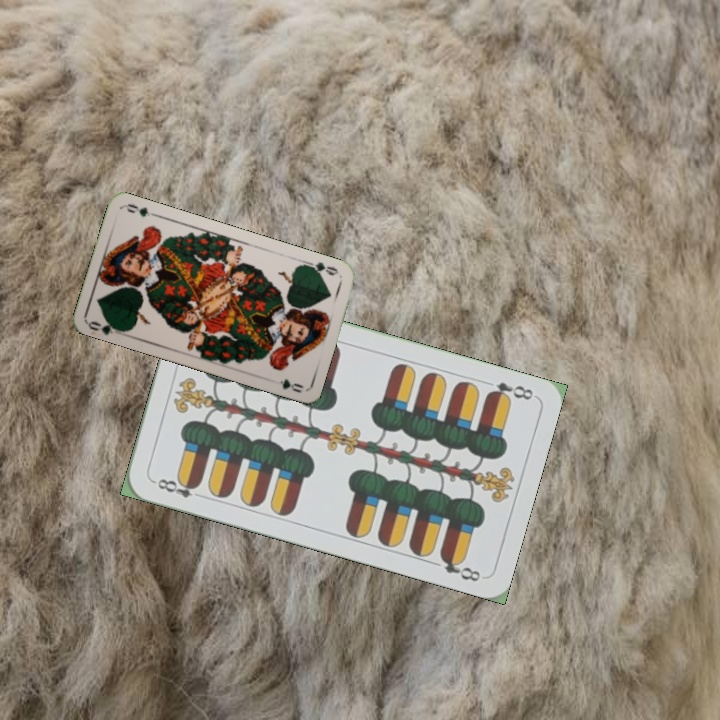E8: (149, 474, 207, 501), (482, 378, 536, 404)
GO: (85, 316, 126, 337), (302, 257, 341, 278)
